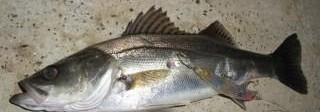fish: (10, 7, 306, 111)
